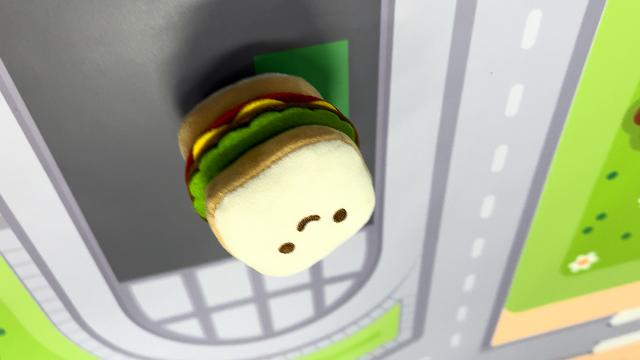sandwich: (175, 70, 379, 278)
